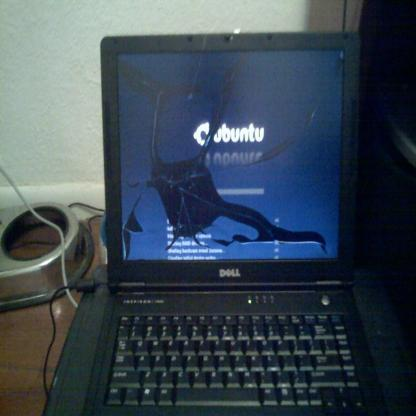board: (84, 33, 388, 416)
